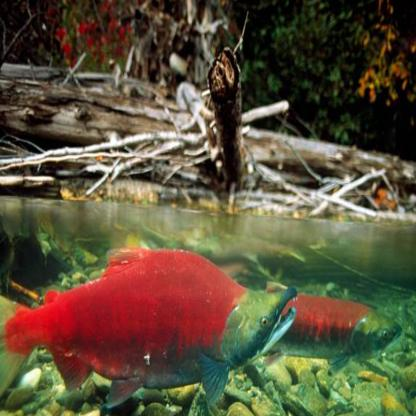sockeye: (14, 268, 287, 390), (250, 294, 393, 354)
